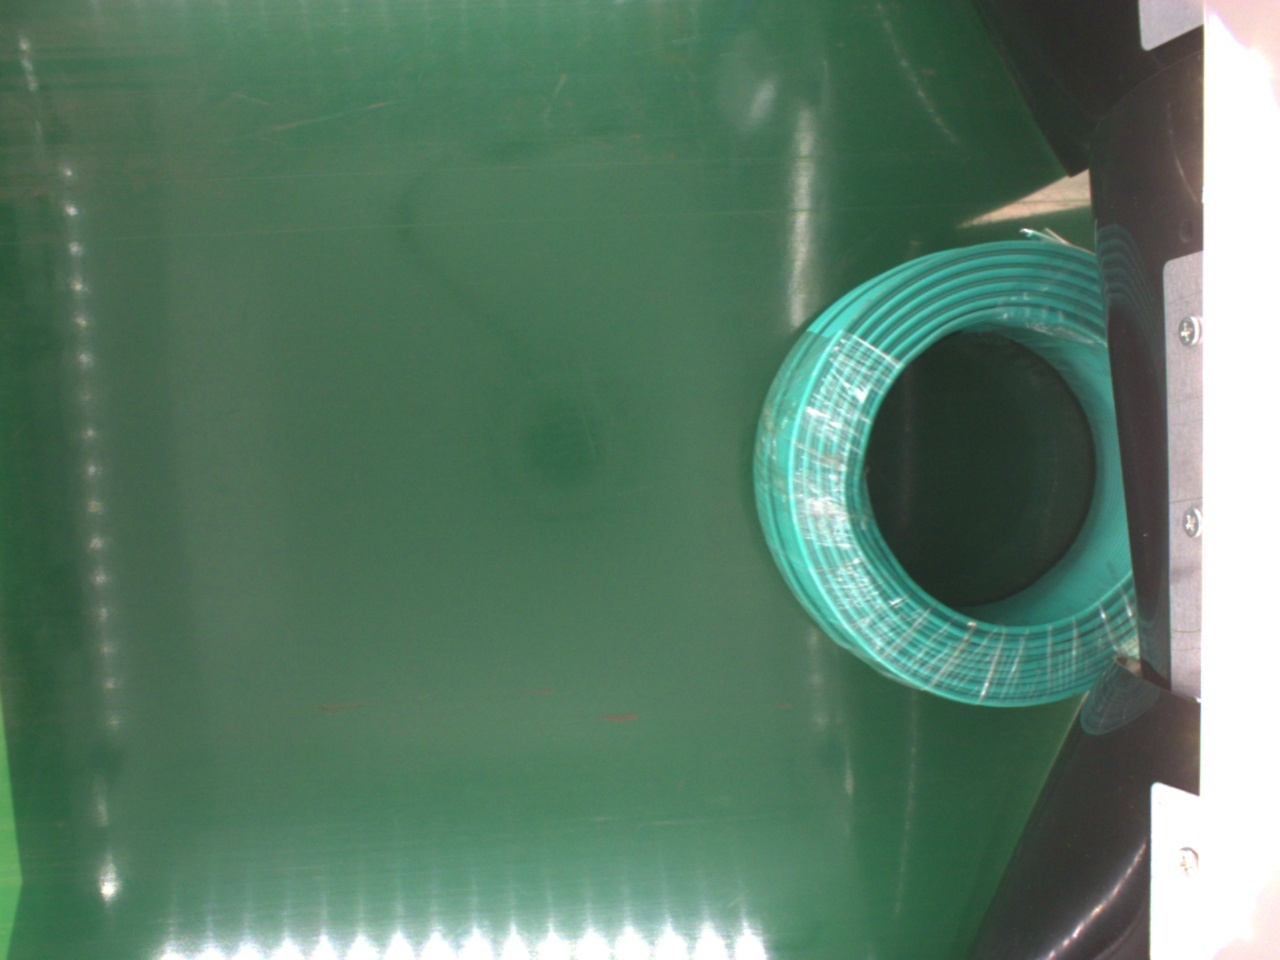green: (745, 238, 1150, 706)
